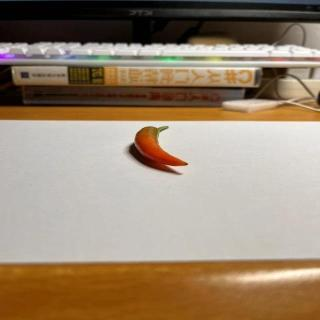Cabai Merah: (134, 126, 189, 167)
